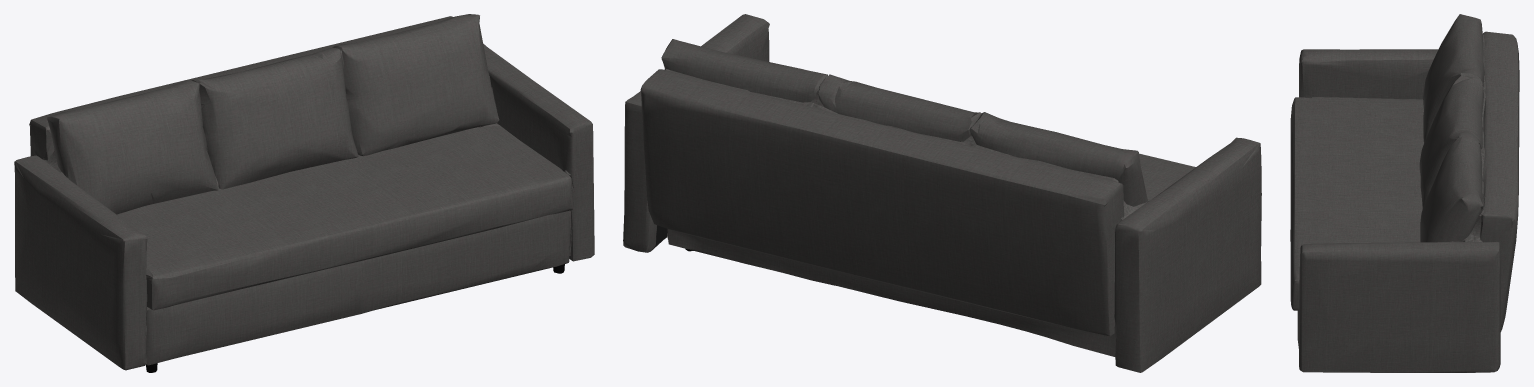
File: FRIHETEN 3er-Bettsofa - dunkelgrau.glb
3 views of the same model, side by side, from view 1: azimuth 30°, elevation 25°; view 2: azimuth 150°, elevation 25°; view 3: azimuth 270°, elevation 25° (orthographic). The views are drawn at different scales.
Parts seen in each view (by area): view 1: ProcessedMeshNode; view 2: ProcessedMeshNode; view 3: ProcessedMeshNode.
Part boxes in pixels (x1,y1,x2,y2): ProcessedMeshNode: (14,14,594,372); ProcessedMeshNode: (623,14,1261,372); ProcessedMeshNode: (1290,14,1519,372).
Size of the model in its own units: 2.27 by 0.8847 by 1.05.
Materials: 1 (1 with a texture image).
